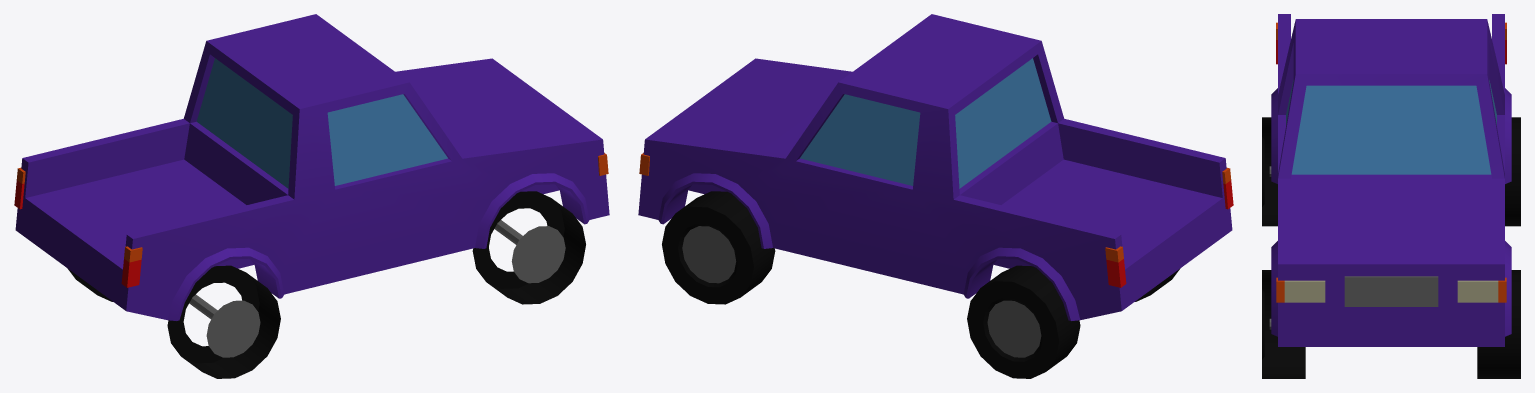
The model's file is car-pickup-violet.obj.
The picture shows the model from 3 angles, left to right: view 1: azimuth 30°, elevation 25°; view 2: azimuth 150°, elevation 25°; view 3: azimuth 270°, elevation 25°; orthographic projection. The views are drawn at different scales.
Parts seen in each view (by area): view 1: car-pickup-violet_Cube.642_carmaterial_violet, car-pickup-violet_Cube.642_windows, car-pickup-violet_Cube.642_tires, car-pickup-violet_Cube.642_metal, car-pickup-violet_Cube.642_lights.red, car-pickup-violet_Cube.642_lights.orange; view 2: car-pickup-violet_Cube.642_carmaterial_violet, car-pickup-violet_Cube.642_tires, car-pickup-violet_Cube.642_windows, car-pickup-violet_Cube.642_metal, car-pickup-violet_Cube.642_lights.red, car-pickup-violet_Cube.642_lights.orange; view 3: car-pickup-violet_Cube.642_carmaterial_violet, car-pickup-violet_Cube.642_windows, car-pickup-violet_Cube.642_tires, car-pickup-violet_Cube.642_metal, car-pickup-violet_Cube.642_lights, car-pickup-violet_Cube.642_lights.orange.
Boxes of the visible parts, box(x1,y1,x2,y2) form: car-pickup-violet_Cube.642_carmaterial_violet: box(15, 14, 609, 320); car-pickup-violet_Cube.642_windows: box(196, 58, 447, 188); car-pickup-violet_Cube.642_tires: box(67, 191, 585, 378); car-pickup-violet_Cube.642_metal: box(189, 220, 565, 357); car-pickup-violet_Cube.642_lights.red: box(14, 180, 141, 287); car-pickup-violet_Cube.642_lights.orange: box(16, 153, 608, 262); car-pickup-violet_Cube.642_carmaterial_violet: box(638, 14, 1232, 320); car-pickup-violet_Cube.642_tires: box(662, 191, 1180, 378); car-pickup-violet_Cube.642_windows: box(800, 58, 1051, 188); car-pickup-violet_Cube.642_metal: box(682, 226, 1041, 357); car-pickup-violet_Cube.642_lights.red: box(1106, 180, 1233, 287); car-pickup-violet_Cube.642_lights.orange: box(639, 153, 1231, 262); car-pickup-violet_Cube.642_carmaterial_violet: box(1271, 14, 1511, 346); car-pickup-violet_Cube.642_windows: box(1286, 80, 1496, 174); car-pickup-violet_Cube.642_tires: box(1262, 117, 1520, 378); car-pickup-violet_Cube.642_metal: box(1269, 166, 1438, 329); car-pickup-violet_Cube.642_lights: box(1284, 280, 1498, 302); car-pickup-violet_Cube.642_lights.orange: box(1276, 22, 1506, 302).
Bounding box in the file's own units: 19.73 × 9.25 × 8.92.
